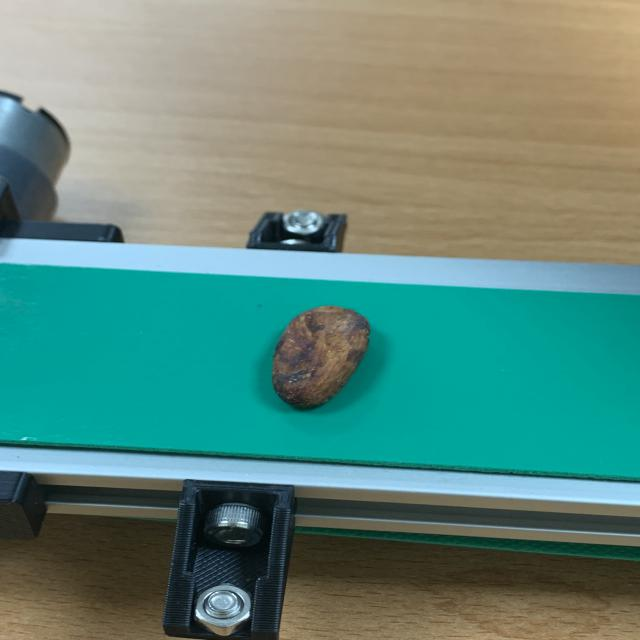Fine_cocoabeans: (236, 284, 427, 431)
